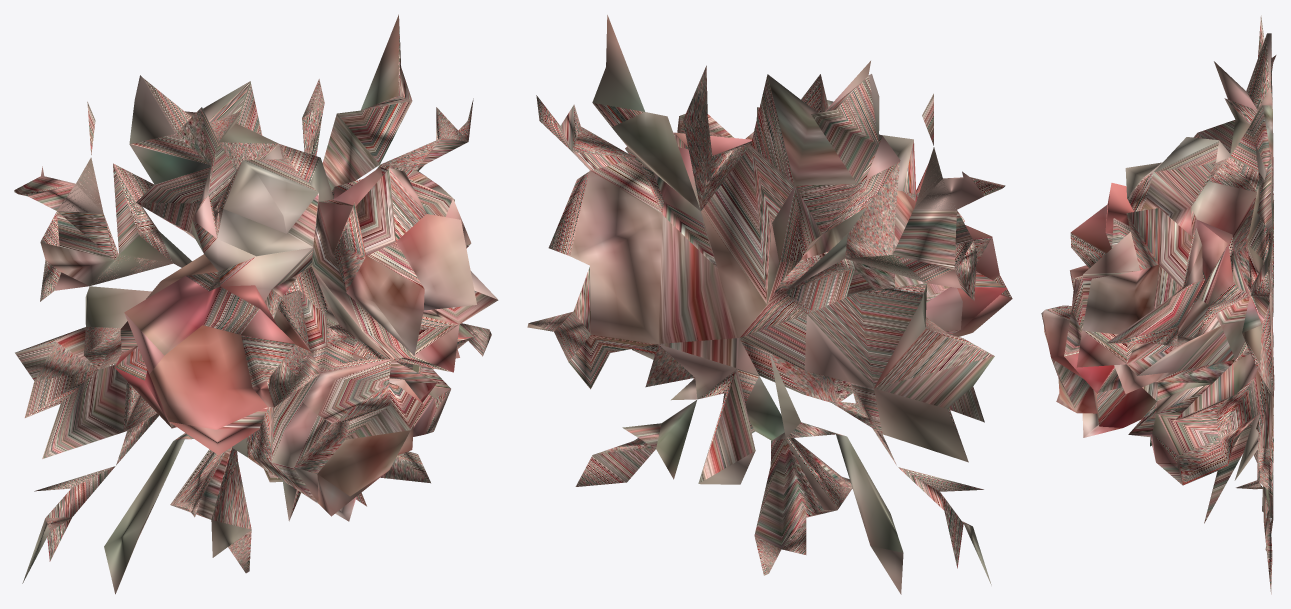
3 renders of one model, left to right at view 1: azimuth 30°, elevation 25°; view 2: azimuth 150°, elevation 25°; view 3: azimuth 270°, elevation 25°, orthographic. The views are drawn at different scales.
Parts seen in each view (by area): view 1: Rose-Bouquet-10-05; view 2: Rose-Bouquet-10-05; view 3: Rose-Bouquet-10-05.
Part boxes in pixels (bbox=[...]): Rose-Bouquet-10-05: bbox=[14, 14, 498, 594]; Rose-Bouquet-10-05: bbox=[527, 15, 1012, 594]; Rose-Bouquet-10-05: bbox=[1041, 15, 1276, 594].
Size of the model in its own units: 0.2834 by 0.299 by 0.1349.
Materials: 1 (1 with a texture image).
